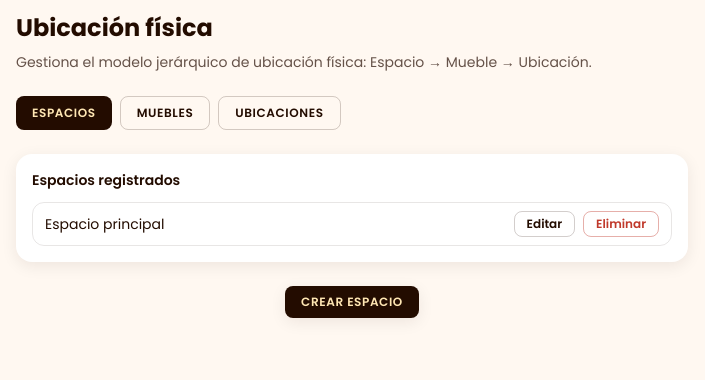
Test: GestionUbicacionFisicaComponent › pestaña Muebles › muestra el mensaje de error del backend al eliminar un mueble con ubicaciones asociadas
The image size is (705, 380).
Click the button "Muebles" at (165, 113), box [120, 96, 210, 130]
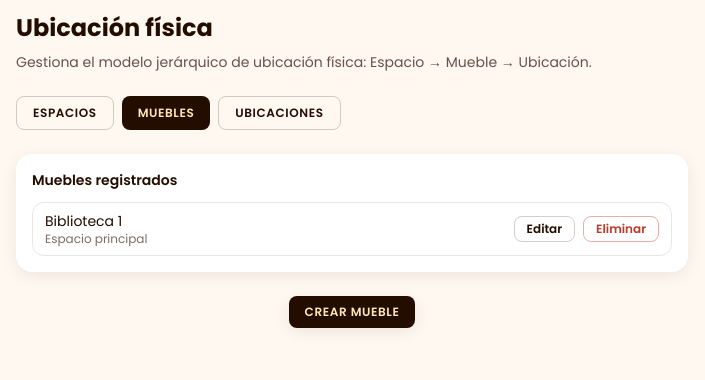
Click the button "Eliminar" at (621, 229), box [583, 216, 659, 242]
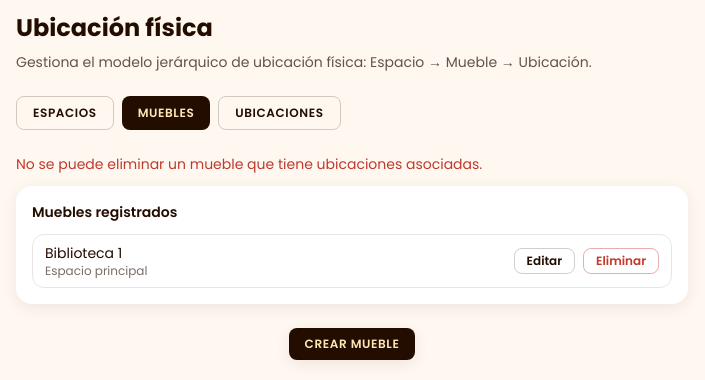
Result: the text "No se puede eliminar un mueble que tiene ubicaciones asociadas." is shown at [16, 154, 482, 174]
